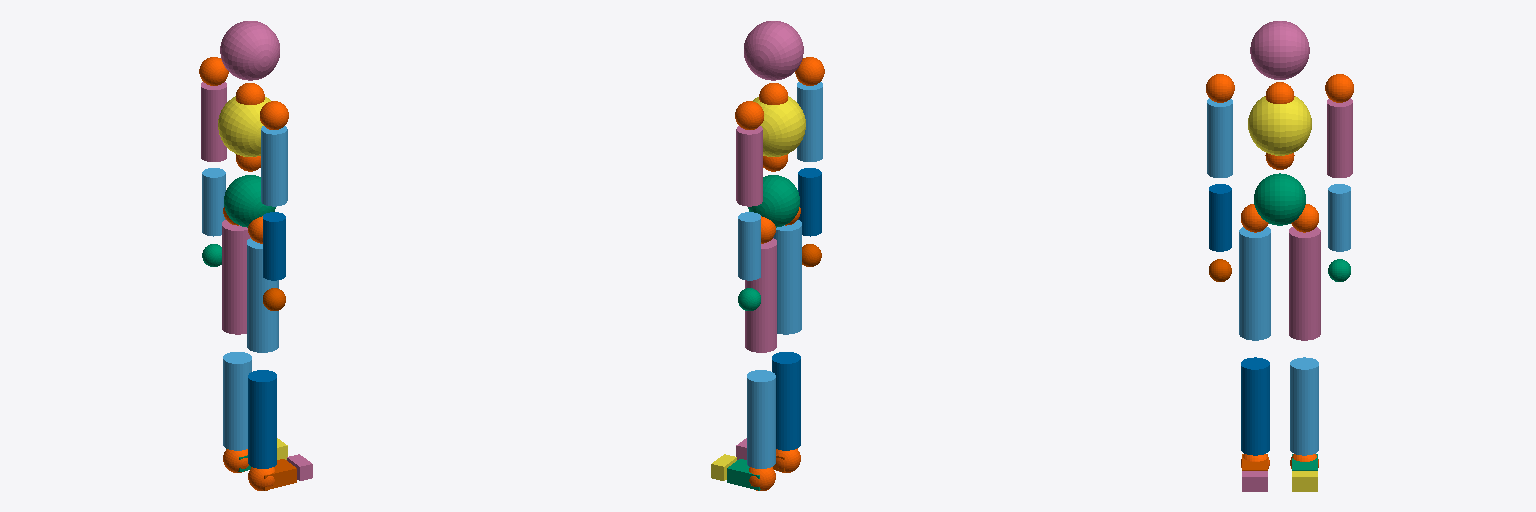
--- Facts derived from the render (not from the file) ---
Views: 3 orthographic renders of the robot side by side, from view 1: azimuth 30°, elevation 25°; view 2: azimuth 150°, elevation 25°; view 3: azimuth 270°, elevation 25°.
Model W0011 with 35 links and 34 joints (28 revolute, 6 fixed), rooted at base_link, posed all joints at 0.
Links seen in each view (by area): view 1: neck, right_knee, left_hip, right_hip, left_knee, chest, right_shoulder, left_shoulder, root, right_elbow, left_elbow, chest_right_shoulder_link2 (+3 smaller); view 2: neck, left_knee, right_hip, left_hip, right_knee, chest, left_shoulder, right_shoulder, root, left_elbow, right_elbow, chest_left_shoulder_link2 (+3 smaller); view 3: right_hip, left_hip, chest, neck, right_knee, left_knee, root, right_shoulder, left_shoulder, right_elbow, left_elbow, chest_right_shoulder_link2 (+3 smaller).
Link boxes in pixels (x1,y1,x2,y2): neck: (220,21,279,80); right_knee: (248,370,276,468); left_hip: (222,220,250,334); right_hip: (247,238,278,352); left_knee: (223,352,251,450); chest: (218,96,270,156); right_shoulder: (261,126,287,206); left_shoulder: (201,82,226,161); root: (224,175,275,227); right_elbow: (263,212,285,280); left_elbow: (202,168,225,236); chest_right_shoulder_link2: (260,101,288,129); neck: (744,21,803,80); left_knee: (747,370,775,468); right_hip: (773,220,801,334); left_hip: (745,238,776,352); right_knee: (772,352,800,450); chest: (753,96,805,156); left_shoulder: (736,126,762,206); right_shoulder: (797,82,822,161); root: (748,175,799,227); left_elbow: (738,212,760,280); right_elbow: (798,168,821,236); chest_left_shoulder_link2: (735,101,763,129); right_hip: (1239,227,1270,340); left_hip: (1289,227,1320,340); chest: (1248,96,1311,155); neck: (1250,21,1309,79); right_knee: (1241,357,1269,455); left_knee: (1290,357,1318,455); root: (1254,173,1305,225); right_shoulder: (1207,98,1232,177); left_shoulder: (1327,98,1352,177); right_elbow: (1209,184,1231,251); left_elbow: (1328,184,1350,251); chest_right_shoulder_link2: (1206,74,1234,102).
Size in the robot's own frame: 0.28 by 0.51 by 1.72 metres.
Geometry: primitives only (box / cylinder / sphere), no mesh files.

robot.urdf — W0011:
<?xml version="1.0" ?>
            <robot name="W0011">
            <material name="orange">
                <color rgba="1.0 0.4235294117647059 0.0392156862745098 1.0"/>
            </material>
            <link name="base_link">
                </link>
            <link name="base">
                </link>
            <joint name="j_base_base_link_rotation" type="fixed">
                <parent link="base_link"/>
                <child link="base"/>
                <origin rpy="1.5707963267948966 0 0" xyz="0 0 0"/>
            </joint>
            <link name="root">
                <inertial>
                <origin rpy="0 0 0" xyz="0.0 0.07 0.0"/>
                <mass value="6.000000"/>
                <inertia ixx="0.019440000000000002" ixy="0" ixz="0" iyy="0.019440000000000002" iyz="0" izz="0.019440000000000002"/>
                </inertial>
                <collision>
                <origin rpy="0 0 0" xyz="0.000000 0.070000 0.000000"/>
                <geometry>
                    <sphere radius="0.09"/>
                </geometry>
                </collision>
                <visual>
                <origin rpy="0 0 0" xyz="0.000000 0.070000 0.000000"/>
                <geometry>
                    <sphere radius="0.09"/>
                </geometry>
                </visual>
            </link>
            <joint name="j_root" type="fixed">
                <parent link="base"/>
                <child link="root"/>
                <origin rpy="0 0 0" xyz="0 0.000000 0.000000"/>
            </joint>
            <link name="chest">
                <inertial>
                <origin rpy="0 0 0" xyz="0.000000 0.120000 0.000000"/>
                <mass value="14.000000"/>
                <inertia ixx="0.06776000000000001" ixy="0" ixz="0" iyy="0.06776000000000001" iyz="0" izz="0.06776000000000001"/>
                </inertial>
                <collision>
                <origin rpy="0 0 0" xyz="0.000000 0.120000 0.000000"/>
                <geometry>
                    <sphere radius="0.11"/>
                </geometry>
                </collision>
                <visual>
                <origin rpy="0 0 0" xyz="0.000000 0.120000 0.000000"/>
                <geometry>
                    <sphere radius="0.11"/>
                </geometry>
                </visual>
            </link>
            <link name="root_chest_link1">
                <inertial>
                <mass value="1e-02"/>
                <inertia ixx="1e-02" ixy="0" ixz="0" iyy="1e-02" iyz="0" izz="1e-02"/>
                </inertial>
            </link>
            <joint name="j_root_chest_joint1" type="revolute">
                <origin rpy="0 0 0" xyz="0.0 0.236151 0.000000"/>
                <parent link="root"/>
                <child link="root_chest_link1"/>
                <axis xyz="1 0 0"/>
                <limit effort="200" lower="-1.2" upper="1.2" velocity="3"/>
            </joint>
            <link name="root_chest_link2">
                <inertial>
                <mass value="1e-02"/>
                <inertia ixx="1e-02" ixy="0" ixz="0" iyy="1e-02" iyz="0" izz="1e-02"/>
                </inertial>
                <visual>
                <geometry>
                    <sphere radius="0.05"/>
                </geometry>
                <material name="orange"/>
                </visual>
            </link>
            <joint name="j_root_chest_joint2" type="revolute">
                <parent link="root_chest_link1"/>
                <child link="root_chest_link2"/>
                <axis xyz="0 1 0"/>
                <limit effort="200" lower="-1.2" upper="1.2" velocity="3"/>
            </joint>
            <joint name="j_root_chest_joint3" type="revolute">
                <parent link="root_chest_link2"/>
                <child link="chest"/>
                <axis xyz="0 0 1"/>
                <limit effort="200" lower="-1.2" upper="1.2" velocity="3"/>
            </joint>
            <link name="neck">
                <inertial>
                <origin rpy="0 0 0" xyz="0.0 0.175 0.0"/>
                <mass value="2.000000"/>
                <inertia ixx="0.008405" ixy="0" ixz="0" iyy="0.008405" iyz="0" izz="0.008405"/>
                </inertial>
                <collision>
                <origin rpy="0 0 0" xyz="0.0 0.175 0.0"/>
                <geometry>
                    <sphere radius="0.1025"/>
                </geometry>
                </collision>
                <visual>
                <origin rpy="0 0 0" xyz="0.0 0.175 0.0"/>
                <geometry>
                    <sphere radius="0.1025"/>
                </geometry>
                </visual>
            </link>
            <link name="chest_neck_link1">
                <inertial>
                <mass value="1e-02"/>
                <inertia ixx="1e-02" ixy="0" ixz="0" iyy="1e-02" iyz="0" izz="1e-02"/>
                </inertial>
            </link>
            <joint name="j_chest_neck_joint1" type="revolute">
                <origin rpy="0 0 0" xyz="0.000000 0.223894 0.000000"/>
                <parent link="chest"/>
                <child link="chest_neck_link1"/>
                <axis xyz="1 0 0"/>
                <limit effort="50" lower="-1" upper="1" velocity="3"/>
            </joint>
            <link name="chest_neck_link2">
                <inertial>
                <mass value="1e-02"/>
                <inertia ixx="1e-02" ixy="0" ixz="0" iyy="1e-02" iyz="0" izz="1e-02"/>
                </inertial>
                <visual>
                <geometry>
                    <sphere radius="0.05"/>
                </geometry>
                <material name="orange"/>
                </visual>
            </link>
            <joint name="j_chest_neck_joint2" type="revolute">
                <parent link="chest_neck_link1"/>
                <child link="chest_neck_link2"/>
                <axis xyz="0 1 0"/>
                <limit effort="50" lower="-1" upper="1" velocity="3"/>
            </joint>
            <joint name="j_chest_neck_joint3" type="revolute">
                <parent link="chest_neck_link2"/>
                <child link="neck"/>
                <axis xyz="0 0 1"/>
                <limit effort="50" lower="-1" upper="1" velocity="3"/>
            </joint>
            <link name="right_hip">
                <inertial>
                <origin rpy="0 0 0" xyz="0.000000 -0.210000 0.000000"/>
                <mass value="4.500000"/>
                <inertia ixx="0.037153124999999995" ixy="0.0" ixz="0.0" iyy="0.037153124999999995" iyz="0.0" izz="0.00680625"/>
                </inertial>
                <collision>
                <origin rpy="1.5707963267948966 0 0" xyz="0.000000 -0.210000 0.000000"/>
                <geometry>
                    <cylinder length="0.22499999999999998" radius="0.0275"/>
                </geometry>
                </collision>
                <visual>
                <origin rpy="1.5707963267948966 0 0" xyz="0.000000 -0.24415000000000003 0.000000"/>
                <geometry>
                    <cylinder length="0.38830000000000003" radius="0.055"/>
                </geometry>
                </visual>
            </link>
            <link name="root_right_hip_link1">
                <inertial>
                <mass value="1e-02"/>
                <inertia ixx="1e-02" ixy="0" ixz="0" iyy="1e-02" iyz="0" izz="1e-02"/>
                </inertial>
            </link>
            <joint name="j_root_right_hip_joint1" type="revolute">
                <origin rpy="0 0 0" xyz="0.000000 0.000000 0.084887"/>
                <parent link="root"/>
                <child link="root_right_hip_link1"/>
                <axis xyz="1 0 0"/>
                <limit effort="200" lower="-1.5" upper="1.5" velocity="3"/>
            </joint>
            <link name="root_right_hip_link2">
                <inertial>
                <mass value="1e-02"/>
                <inertia ixx="1e-02" ixy="0" ixz="0" iyy="1e-02" iyz="0" izz="1e-02"/>
                </inertial>
                <visual>
                <geometry>
                    <sphere radius="0.05"/>
                </geometry>
                <material name="orange"/>
                </visual>
            </link>
            <joint name="j_root_right_hip_joint2" type="revolute">
                <parent link="root_right_hip_link1"/>
                <child link="root_right_hip_link2"/>
                <axis xyz="0 1 0"/>
                <limit effort="200" lower="-1.5" upper="1.5" velocity="3"/>
            </joint>
            <joint name="j_root_right_hip_joint3" type="revolute">
                <parent link="root_right_hip_link2"/>
                <child link="right_hip"/>
                <axis xyz="0 0 1"/>
                <limit effort="200" lower="-1.5" upper="1.5" velocity="3"/>
            </joint>
            <link name="right_knee">
                <inertial>
                <origin rpy="0 0 0" xyz="0.000000 -0.200000 0.000000"/>
                <mass value="3.000000"/>
                <inertia ixx="0.1" ixy="0" ixz="0" iyy="0.1" iyz="0" izz="0.1"/>
                </inertial>
                <collision>
                <origin rpy="1.5707963267948966 0 0" xyz="0.000000 -0.200000 0.000000"/>
                <geometry>
                    <cylinder length="0.23249999999999998" radius="0.025"/>
                </geometry>
                </collision>
                <visual>
                <origin rpy="1.5707963267948966 0 0" xyz="0.000000 -0.2 0.000000"/>
                <geometry>
                    <cylinder length="0.325" radius="0.05"/>
                </geometry>
                </visual>
            </link>
            <joint name="j_right_knee" type="revolute">
                <parent link="right_hip"/>
                <child link="right_knee"/>
                <limit effort="150.0" lower="-3.14" upper="0." velocity="0.5"/>
                <origin rpy="0 0 0" xyz="0.000000 -0.5133000000000001 0.000000"/>
                <axis xyz="0.000000 0.000000 1.000000"/>
            </joint>
            <link name="right_ankle">
                <inertial>
                <origin rpy="0 0 0" xyz="0.045 -0.00225 0.000000"/>
                <mass value="1.000000"/>
                <inertia ixx="0.0009270833333333333" ixy="0.0" ixz="0.0" iyy="0.0028628333333333327" iyz="0.0" izz="0.003285749999999999"/>
                </inertial>
                <collision>
                <origin rpy="0 0 0" xyz="0.045 -0.00225 0.000000"/>
                <geometry>
                    <box size="0.127 0.055 0.09"/>
                </geometry>
                </collision>
                <visual>
                <origin rpy="0 0 0" xyz="0.045 -0.00225 0.000000"/>
                <geometry>
                    <box size="0.127 0.055 0.09"/>
                </geometry>
                </visual>
            </link>
            <joint name="j_right_toe" type="fixed">
                <parent link="right_ankle"/>
                <child link="right_toe"/>
                <limit effort="150.0" lower="-3.14" upper="0." velocity="0.5"/>
                <origin rpy="0 0 0" xyz="0.1 0.0 0.0"/>
                <axis xyz="0.000000 0.000000 1.000000"/>
            </joint>
            <link name="right_toe">
                <inertial>
                <origin rpy="0 0 0" xyz="0.045 0.0 0.0"/>
                <mass value="0.3"/>
                <inertia ixx="0.0009270833333333333" ixy="0.0" ixz="0.0" iyy="0.0028628333333333327" iyz="0.0" izz="0.003285749999999999"/>
                </inertial>
                <collision>
                <origin rpy="0 0 0" xyz="0.045 0.0 0.0"/>
                <geometry>
                    <box size="0.05 0.055 0.09"/>
                </geometry>
                </collision>
                <visual>
                <origin rpy="0 0 0" xyz="0.045 0.0 0.0"/>
                <geometry>
                    <box size="0.05 0.055 0.09"/>
                </geometry>
                </visual>
            </link>
            <link name="right_knee_right_ankle_link1">
                <inertial>
                <mass value="1e-02"/>
                <inertia ixx="1e-02" ixy="0" ixz="0" iyy="1e-02" iyz="0" izz="1e-02"/>
                </inertial>
            </link>
            <joint name="j_right_knee_right_ankle_joint1" type="revolute">
                <origin rpy="0 0 0" xyz="0.000000 -0.41500000000000004 0.000000"/>
                <parent link="right_knee"/>
                <child link="right_knee_right_ankle_link1"/>
                <axis xyz="1 0 0"/>
                <limit effort="90" lower="-1.2" upper="1.2" velocity="3"/>
            </joint>
            <link name="right_knee_right_ankle_link2">
                <inertial>
                <mass value="1e-02"/>
                <inertia ixx="1e-02" ixy="0" ixz="0" iyy="1e-02" iyz="0" izz="1e-02"/>
                </inertial>
                <visual>
                <geometry>
                    <sphere radius="0.05"/>
                </geometry>
                <material name="orange"/>
                </visual>
            </link>
            <joint name="j_right_knee_right_ankle_joint2" type="revolute">
                <parent link="right_knee_right_ankle_link1"/>
                <child link="right_knee_right_ankle_link2"/>
                <axis xyz="0 1 0"/>
                <limit effort="90" lower="-1.2" upper="1.2" velocity="3"/>
            </joint>
            <joint name="j_right_knee_right_ankle_joint3" type="revolute">
                <parent link="right_knee_right_ankle_link2"/>
                <child link="right_ankle"/>
                <axis xyz="0 0 1"/>
                <limit effort="90" lower="-1.2" upper="1.2" velocity="3"/>
            </joint>
            <link name="right_shoulder">
                <inertial>
                <origin rpy="0 0 0" xyz="0.000000 -0.140000 0.000000"/>
                <mass value="1.500000"/>
                <inertia ixx="0.004809374999999999" ixy="0.0" ixz="0.0" iyy="0.004809374999999999" iyz="0.0" izz="0.0015187500000000001"/>
                </inertial>
                <collision>
                <origin rpy="1.5707963267948966 0 0" xyz="0.000000 -0.140000 0.000000"/>
                <geometry>
                    <cylinder length="0.135" radius="0.0225"/>
                </geometry>
                </collision>
                <visual>
                <origin rpy="1.5707963267948966 0 0" xyz="0.000000 -0.185 0.000000"/>
                <geometry>
                    <cylinder length="0.27" radius="0.045"/>
                </geometry>
                </visual>
            </link>
            <link name="chest_right_shoulder_link1">
                <inertial>
                <mass value="1e-02"/>
                <inertia ixx="1e-02" ixy="0" ixz="0" iyy="1e-02" iyz="0" izz="1e-02"/>
                </inertial>
            </link>
            <joint name="j_chest_right_shoulder_joint1" type="revolute">
                <origin rpy="0 0 0" xyz="-0.02406 0.24350 0.20500000000000002"/>
                <parent link="chest"/>
                <child link="chest_right_shoulder_link1"/>
                <axis xyz="1 0 0"/>
                <limit effort="100" lower="-3.14" upper="3.14" velocity="3"/>
            </joint>
            <link name="chest_right_shoulder_link2">
                <inertial>
                <mass value="1e-02"/>
                <inertia ixx="1e-02" ixy="0" ixz="0" iyy="1e-02" iyz="0" izz="1e-02"/>
                </inertial>
                <visual>
                <geometry>
                    <sphere radius="0.05"/>
                </geometry>
                <material name="orange"/>
                </visual>
            </link>
            <joint name="j_chest_right_shoulder_joint2" type="revolute">
                <parent link="chest_right_shoulder_link1"/>
                <child link="chest_right_shoulder_link2"/>
                <axis xyz="0 1 0"/>
                <limit effort="100" lower="-3.14" upper="3.14" velocity="3"/>
            </joint>
            <joint name="j_chest_right_shoulder_joint3" type="revolute">
                <parent link="chest_right_shoulder_link2"/>
                <child link="right_shoulder"/>
                <axis xyz="0 0 1"/>
                <limit effort="100" lower="-3.14" upper="3.14" velocity="3"/>
            </joint>
            <link name="right_elbow">
                <inertial>
                <origin rpy="0 0 0" xyz="0.000000 -0.120000 0.000000"/>
                <mass value="1.000000"/>
                <inertia ixx="0.0019187499999999999" ixy="0.0" ixz="0.0" iyy="0.0019187499999999999" iyz="0.0" izz="0.0008"/>
                </inertial>
                <collision>
                <origin rpy="1.5707963267948966 0 0" xyz="0.0 -0.12 0.0"/>
                <geometry>
                    <cylinder length="0.10125" radius="0.02"/>
                </geometry>
                </collision>
                <visual>
                <origin rpy="1.5707963267948966 0 0" xyz="0.0 -0.12 0.0"/>
                <geometry>
                    <cylinder length="0.22" radius="0.04"/>
                </geometry>
                </visual>
            </link>
            <joint name="j_right_elbow" type="revolute">
                <parent link="right_shoulder"/>
                <child link="right_elbow"/>
                <limit effort="60.0" lower="0" upper="3.14" velocity="0.5"/>
                <origin rpy="0 0 0" xyz="0.000000 -0.37 0.000000"/>
                <axis xyz="0.000000 0.000000 1.000000"/>
            </joint>
            <link name="right_wrist">
                <inertial>
                <origin rpy="0 0 0" xyz="0.000000 0.000000 0.000000"/>
                <mass value="0.500000"/>
                <inertia ixx="0.00032" ixy="0" ixz="0" iyy="0.00032" iyz="0" izz="0.00032"/>
                </inertial>
                <collision>
                <origin rpy="0 0 0" xyz="0.000000 0.000000 0.000000"/>
                <geometry>
                    <sphere radius="0.04"/>
                </geometry>
                </collision>
                <visual>
                <origin rpy="0 0 0" xyz="0.000000 0.000000 0.000000"/>
                <geometry>
                    <sphere radius="0.04"/>
                </geometry>
                </visual>
            </link>
            <joint name="j_right_wrist" type="fixed">
                <parent link="right_elbow"/>
                <child link="right_wrist"/>
                <origin rpy="0 0 0" xyz="0.000000 -0.32 0.000000"/>
            </joint>
            <link name="left_hip">
                <inertial>
                <origin rpy="0 0 0" xyz="0.000000 -0.210000 0.000000"/>
                <mass value="4.500000"/>
                <inertia ixx="0.037153124999999995" ixy="0.0" ixz="0.0" iyy="0.037153124999999995" iyz="0.0" izz="0.00680625"/>
                </inertial>
                <collision>
                <origin rpy="1.5707963267948966 0 0" xyz="0.000000 -0.210000 0.000000"/>
                <geometry>
                    <cylinder length="0.22499999999999998" radius="0.0275"/>
                </geometry>
                </collision>
                <visual>
                <origin rpy="1.5707963267948966 0 0" xyz="0.000000 -0.24415000000000003 0.000000"/>
                <geometry>
                    <cylinder length="0.38830000000000003" radius="0.055"/>
                </geometry>
                </visual>
            </link>
            <link name="root_left_hip_link1">
                <inertial>
                <mass value="1e-02"/>
                <inertia ixx="1e-02" ixy="0" ixz="0" iyy="1e-02" iyz="0" izz="1e-02"/>
                </inertial>
            </link>
            <joint name="j_root_left_hip_joint1" type="revolute">
                <origin rpy="0 0 0" xyz="0.000000 0.000000 -0.084887"/>
                <parent link="root"/>
                <child link="root_left_hip_link1"/>
                <axis xyz="1 0 0"/>
                <limit effort="200" lower="-1.5" upper="1.5" velocity="3"/>
            </joint>
            <link name="root_left_hip_link2">
                <inertial>
                <mass value="1e-02"/>
                <inertia ixx="1e-02" ixy="0" ixz="0" iyy="1e-02" iyz="0" izz="1e-02"/>
                </inertial>
                <visual>
                <geometry>
                    <sphere radius="0.05"/>
                </geometry>
                <material name="orange"/>
                </visual>
            </link>
            <joint name="j_root_left_hip_joint2" type="revolute">
                <parent link="root_left_hip_link1"/>
                <child link="root_left_hip_link2"/>
                <axis xyz="0 1 0"/>
                <limit effort="200" lower="-1.5" upper="1.5" velocity="3"/>
            </joint>
            <joint name="j_root_left_hip_joint3" type="revolute">
                <parent link="root_left_hip_link2"/>
                <child link="left_hip"/>
                <axis xyz="0 0 1"/>
                <limit effort="200" lower="-1.5" upper="1.5" velocity="3"/>
            </joint>
            <link name="left_knee">
                <inertial>
                <origin rpy="0 0 0" xyz="0.000000 -0.200000 0.000000"/>
                <mass value="3.000000"/>
                <inertia ixx="0.025900000000000003" ixy="0.0" ixz="0.0" iyy="0.025900000000000003" iyz="0.0" izz="0.0037500000000000007"/>
                </inertial>
                <collision>
                <origin rpy="1.5707963267948966 0 0" xyz="0.000000 -0.200000 0.000000"/>
                <geometry>
                    <cylinder length="0.23249999999999998" radius="0.025"/>
                </geometry>
                </collision>
                <visual>
                <origin rpy="1.5707963267948966 0 0" xyz="0.000000 -0.2 0.000000"/>
                <geometry>
                    <cylinder length="0.325" radius="0.05"/>
                </geometry>
                </visual>
            </link>
            <joint name="j_left_knee" type="revolute">
                <parent link="left_hip"/>
                <child link="left_knee"/>
                <limit effort="150.0" lower="-3.14" upper="0." velocity="0.5"/>
                <origin rpy="0 0 0" xyz="0.000000 -0.5133000000000001 0.000000"/>
                <axis xyz="0.000000 0.000000 1.000000"/>
            </joint>
            <link name="left_ankle">
                <inertial>
                <origin rpy="0 0 0" xyz="0.045 -0.00225 0.0"/>
                <mass value="0.7"/>
                <inertia ixx="0.0009270833333333333" ixy="0.0" ixz="0.0" iyy="0.0028628333333333327" iyz="0.0" izz="0.003285749999999999"/>
                </inertial>
                <collision>
                <origin rpy="0 0 0" xyz="0.045 -0.00225 0.0"/>
                <geometry>
                    <box size="0.127 0.055 0.09"/>
                </geometry>
                </collision>
                <visual>
                <origin rpy="0 0 0" xyz="0.045 -0.00225 0.0"/>
                <geometry>
                    <box size="0.127 0.055 0.09"/>
                </geometry>
                </visual>
            </link>
            <joint name="j_left_toe" type="fixed">
                <parent link="left_ankle"/>
                <child link="left_toe"/>
                <limit effort="150.0" lower="-3.14" upper="0." velocity="0.5"/>
                <origin rpy="0 0 0" xyz="0.1 0.0 0.0"/>
                <axis xyz="0.000000 0.000000 1.000000"/>
            </joint>
            <link name="left_toe">
                <inertial>
                <origin rpy="0 0 0" xyz="0.045 0.0 0.0"/>
                <mass value="0.3"/>
                <inertia ixx="0.0009270833333333333" ixy="0.0" ixz="0.0" iyy="0.0028628333333333327" iyz="0.0" izz="0.003285749999999999"/>
                </inertial>
                <collision>
                <origin rpy="0 0 0" xyz="0.045 0.0 0.0"/>
                <geometry>
                    <box size="0.05 0.055 0.09"/>
                </geometry>
                </collision>
                <visual>
                <origin rpy="0 0 0" xyz="0.045 0.0 0.0"/>
                <geometry>
                    <box size="0.05 0.055 0.09"/>
                </geometry>
                </visual>
            </link>
            <link name="left_knee_left_ankle_link1">
                <inertial>
                <mass value="1e-02"/>
                <inertia ixx="1e-02" ixy="0" ixz="0" iyy="1e-02" iyz="0" izz="1e-02"/>
                </inertial>
            </link>
            <joint name="j_left_knee_left_ankle_joint1" type="revolute">
                <origin rpy="0 0 0" xyz="0.000000 -0.41500000000000004 0.000000"/>
                <parent link="left_knee"/>
                <child link="left_knee_left_ankle_link1"/>
                <axis xyz="1 0 0"/>
                <limit effort="90" lower="-1.2" upper="1.2" velocity="3"/>
            </joint>
            <link name="left_knee_left_ankle_link2">
                <inertial>
                <mass value="1e-02"/>
                <inertia ixx="1e-02" ixy="0" ixz="0" iyy="1e-02" iyz="0" izz="1e-02"/>
                </inertial>
                <visual>
                <geometry>
                    <sphere radius="0.05"/>
                </geometry>
                <material name="orange"/>
                </visual>
            </link>
            <joint name="j_left_knee_left_ankle_joint2" type="revolute">
                <parent link="left_knee_left_ankle_link1"/>
                <child link="left_knee_left_ankle_link2"/>
                <axis xyz="0 1 0"/>
                <limit effort="90" lower="-1.2" upper="1.2" velocity="3"/>
            </joint>
            <joint name="j_left_knee_left_ankle_joint3" type="revolute">
                <parent link="left_knee_left_ankle_link2"/>
                <child link="left_ankle"/>
                <axis xyz="0 0 1"/>
                <limit effort="90" lower="-1.2" upper="1.2" velocity="3"/>
            </joint>
            <link name="left_shoulder">
                <inertial>
                <origin rpy="0 0 0" xyz="0.000000 -0.140000 0.000000"/>
                <mass value="1.500000"/>
                <inertia ixx="0.004809374999999999" ixy="0.0" ixz="0.0" iyy="0.004809374999999999" iyz="0.0" izz="0.0015187500000000001"/>
                </inertial>
                <collision>
                <origin rpy="1.5707963267948966 0 0" xyz="0.000000 -0.140000 0.000000"/>
                <geometry>
                    <cylinder length="0.135" radius="0.0225"/>
                </geometry>
                </collision>
                <visual>
                <origin rpy="1.5707963267948966 0 0" xyz="0.000000 -0.185 0.000000"/>
                <geometry>
                    <cylinder length="0.27" radius="0.045"/>
                </geometry>
                </visual>
            </link>
            <link name="chest_left_shoulder_link1">
                <inertial>
                <mass value="1e-02"/>
                <inertia ixx="1e-02" ixy="0" ixz="0" iyy="1e-02" iyz="0" izz="1e-02"/>
                </inertial>
            </link>
            <joint name="j_chest_left_shoulder_joint1" type="revolute">
                <origin rpy="0 0 0" xyz="-0.02405 0.24350 -0.20500000000000002"/>
                <parent link="chest"/>
                <child link="chest_left_shoulder_link1"/>
                <axis xyz="1 0 0"/>
                <limit effort="100" lower="-3.14" upper="3.14" velocity="3"/>
            </joint>
            <link name="chest_left_shoulder_link2">
                <inertial>
                <mass value="1e-02"/>
                <inertia ixx="1e-02" ixy="0" ixz="0" iyy="1e-02" iyz="0" izz="1e-02"/>
                </inertial>
                <visual>
                <geometry>
                    <sphere radius="0.05"/>
                </geometry>
                <material name="orange"/>
                </visual>
            </link>
            <joint name="j_chest_left_shoulder_joint2" type="revolute">
                <parent link="chest_left_shoulder_link1"/>
                <child link="chest_left_shoulder_link2"/>
                <axis xyz="0 1 0"/>
                <limit effort="100" lower="-3.14" upper="3.14" velocity="3"/>
            </joint>
            <joint name="j_chest_left_shoulder_joint3" type="revolute">
                <parent link="chest_left_shoulder_link2"/>
                <child link="left_shoulder"/>
                <axis xyz="0 0 1"/>
                <limit effort="100" lower="-3.14" upper="3.14" velocity="3"/>
            </joint>
            <link name="left_elbow">
                <inertial>
                <origin rpy="0 0 0" xyz="0.000000 -0.12 0.000000"/>
                <mass value="1.000000"/>
                <inertia ixx="0.0019187499999999999" ixy="0.0" ixz="0.0" iyy="0.0019187499999999999" iyz="0.0" izz="0.0008"/>
                </inertial>
                <collision>
                <origin rpy="1.5707963267948966 0 0" xyz="0.000000 -0.12 0.000000"/>
                <geometry>
                    <cylinder length="0.10125" radius="0.02"/>
                </geometry>
                </collision>
                <visual>
                <origin rpy="1.5707963267948966 0 0" xyz="0.000000 -0.12 0.000000"/>
                <geometry>
                    <cylinder length="0.22" radius="0.04"/>
                </geometry>
                </visual>
            </link>
            <joint name="j_left_elbow" type="revolute">
                <parent link="left_shoulder"/>
                <child link="left_elbow"/>
                <limit effort="60.0" lower="0" upper="3.14" velocity="0.5"/>
                <origin rpy="0 0 0" xyz="0.000000 -0.37 0.000000"/>
                <axis xyz="0.000000 0.000000 1.000000"/>
            </joint>
            <link name="left_wrist">
                <inertial>
                <origin rpy="0 0 0" xyz="0.000000 0.000000 0.000000"/>
                <mass value="0.500000"/>
                <inertia ixx="0.00032" ixy="0" ixz="0" iyy="0.00032" iyz="0" izz="0.00032"/>
                </inertial>
                <collision>
                <origin rpy="0 0 0" xyz="0.000000 0.000000 0.000000"/>
                <geometry>
                    <sphere radius="0.04"/>
                </geometry>
                </collision>
                <visual>
                <origin rpy="0 0 0" xyz="0.000000 0.000000 0.000000"/>
                <geometry>
                    <sphere radius="0.04"/>
                </geometry>
                </visual>
            </link>
            <joint name="j_left_wrist_joint" type="fixed">
                <parent link="left_elbow"/>
                <child link="left_wrist"/>
                <origin rpy="0 0 0" xyz="0.000000 -0.32 0.000000"/>
            </joint>
            </robot>
            
